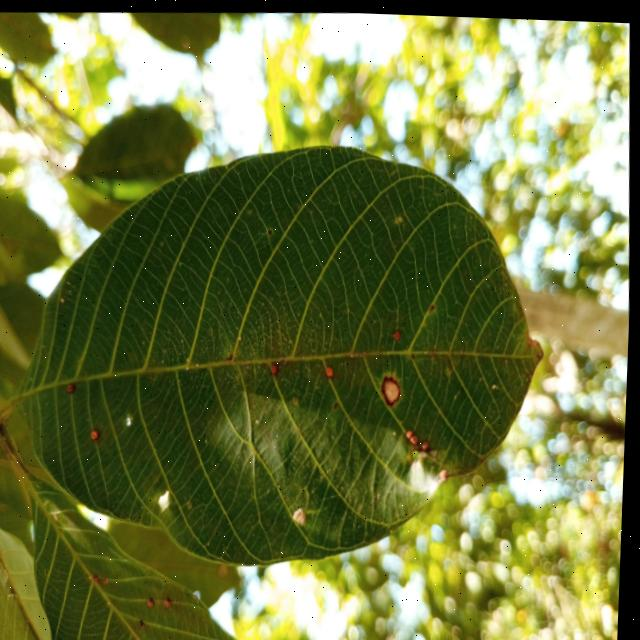Colletotrichum: (382, 370, 405, 404)
